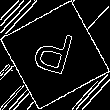P_S: (30, 26, 80, 84)
